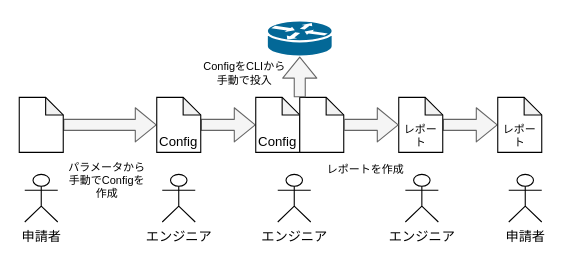
The diagram is 564 pixels wide and 264 high, and some of its shapes have lost their labels. The shapes that lost their labels are listed below. From the top down, each one's box as (x1, y1, x2, y2) in pixels, then its label:
(18, 96, 63, 152): パラメータ
(299, 96, 344, 152): 手順書
